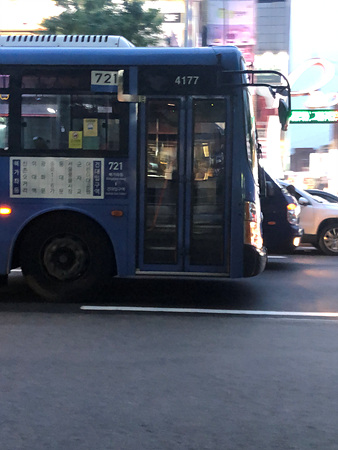entrance: (138, 87, 231, 276)
